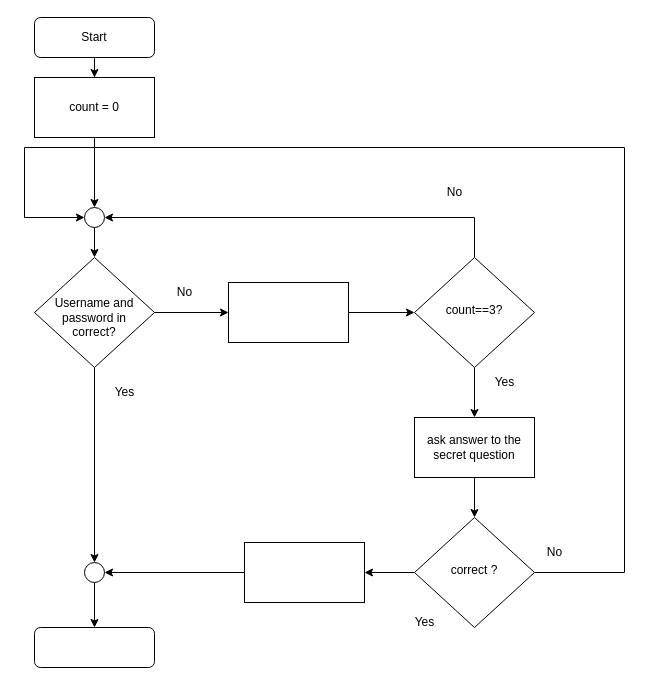
Some shapes in this 650 by 685 pixel diagram are drawn without their labels. Here are the shapes that lost their labels. From the top down, the centre of each, then its label:
the point at 288,312: count++
the point at 304,572: sent to user’s email
the point at 94,647: End
